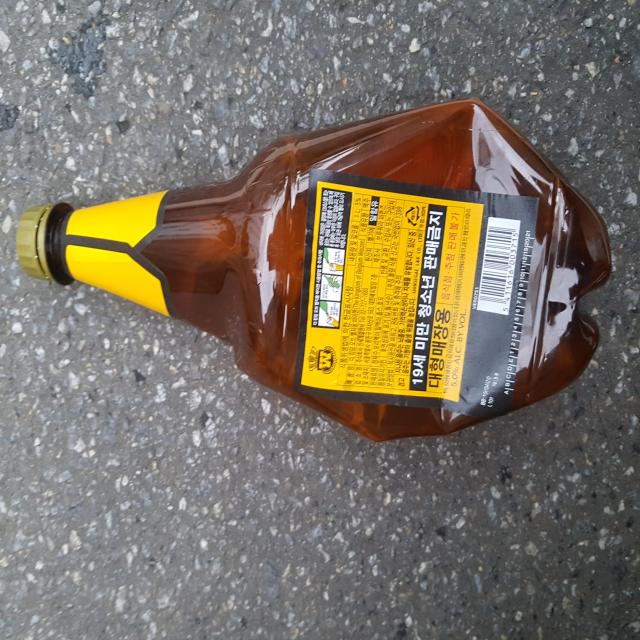bottle: (11, 91, 619, 450)
